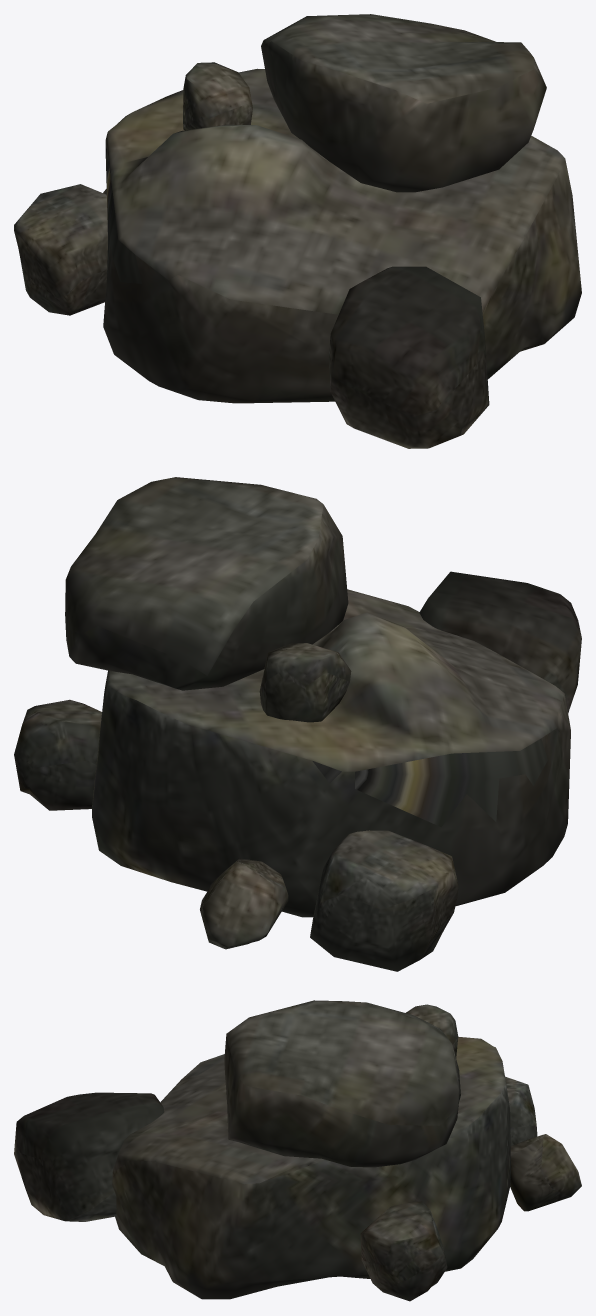
3 views of the same model, one above another, from view 1: azimuth 30°, elevation 25°; view 2: azimuth 150°, elevation 25°; view 3: azimuth 270°, elevation 25° (orthographic). The views are drawn at different scales.
Parts seen in each view (by area): view 1: smallrockcluster; view 2: smallrockcluster; view 3: smallrockcluster.
Part boxes in pixels (x1,y1,x2,y2): smallrockcluster: (14, 14, 581, 448); smallrockcluster: (14, 477, 581, 971); smallrockcluster: (14, 1000, 581, 1301).
Size of the model in its own units: 3.74 by 2.22 by 4.95.
1 material, 1 textured.
